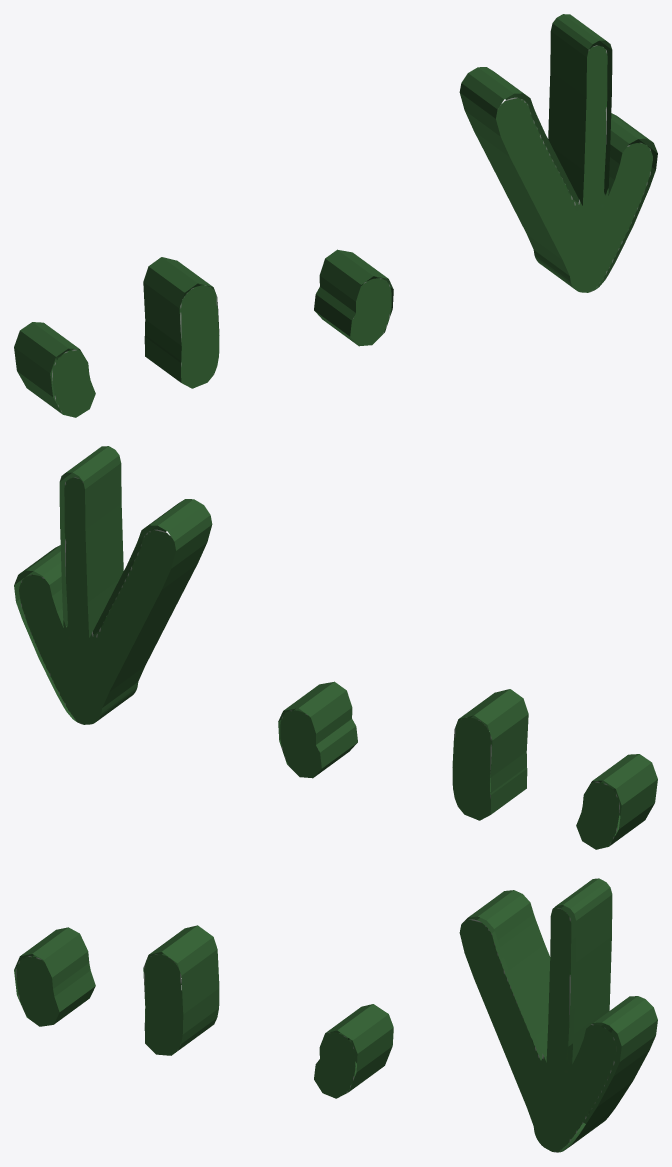
File: GrassTuft07.fbx
3 renders of one model, top to bottom at view 1: azimuth 30°, elevation 25°; view 2: azimuth 150°, elevation 25°; view 3: azimuth 330°, elevation 25°, orthographic.
Parts seen in each view (by area): view 1: Grass07; view 2: Grass07; view 3: Grass07.
Part boxes in pixels (x1,y1,x2,y2): Grass07: (14, 14, 657, 417); Grass07: (14, 446, 657, 849); Grass07: (14, 878, 657, 1152).
Bounding box in the file's own units: 0.46 × 0.1805 × 0.0475.
